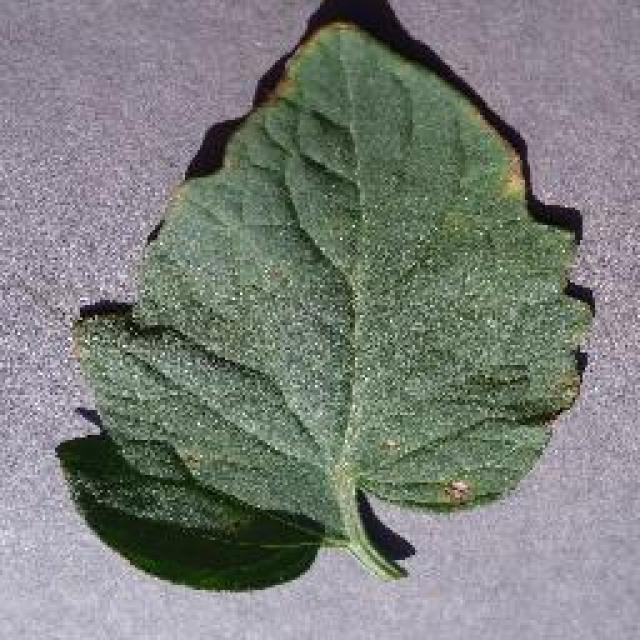Tomato___Target_Spot: (58, 0, 592, 588)
